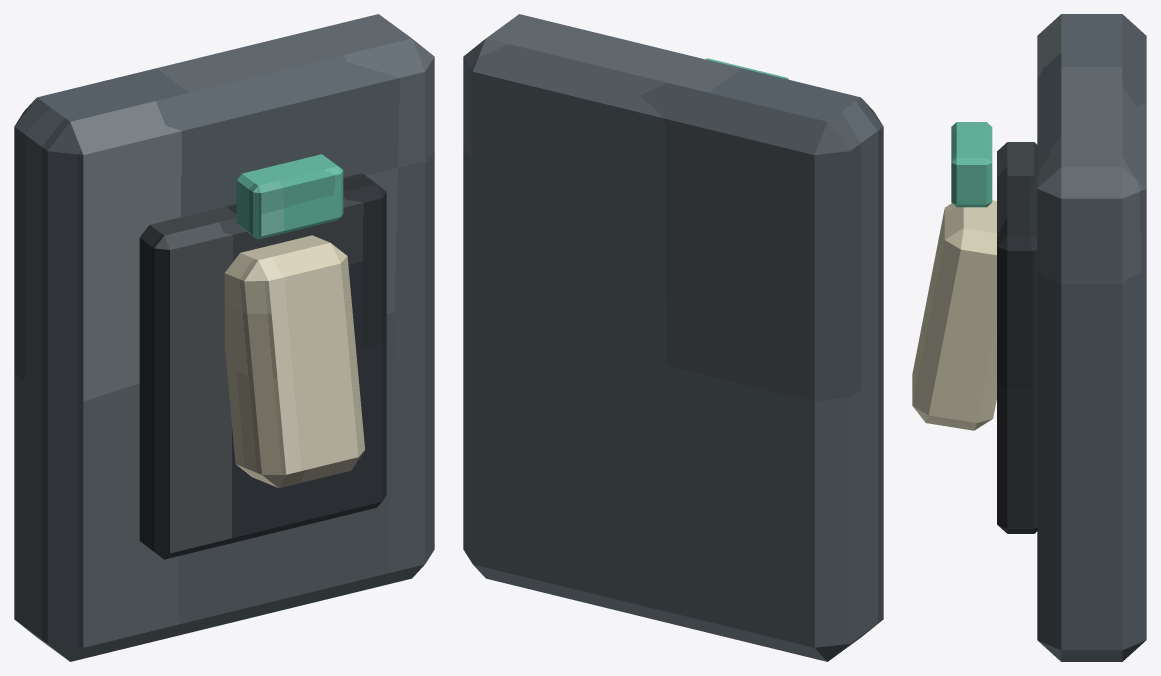
File: wall_light_switch.glb
The picture shows the model from 3 angles, left to right: view 1: azimuth 30°, elevation 25°; view 2: azimuth 150°, elevation 25°; view 3: azimuth 270°, elevation 25°; orthographic projection. The views are drawn at different scales.
Visible parts, largest first — view 1: SwitchPlate, SwitchInset, SwitchToggle, SwitchLamp; view 2: SwitchPlate; view 3: SwitchPlate, SwitchInset, SwitchToggle, SwitchLamp.
Part boxes in pixels (box(x1,y1,x2,y2)): SwitchPlate: box(14, 14, 434, 661); SwitchInset: box(139, 173, 386, 559); SwitchToggle: box(224, 235, 364, 488); SwitchLamp: box(236, 154, 343, 239); SwitchPlate: box(463, 14, 883, 661); SwitchPlate: box(1037, 14, 1146, 661); SwitchInset: box(997, 142, 1037, 533); SwitchToggle: box(912, 200, 996, 430); SwitchLamp: box(951, 122, 992, 207).
Size of the model in its own units: 0.3 by 0.4 by 0.1714.
Materials: 1 (1 with a texture image).
